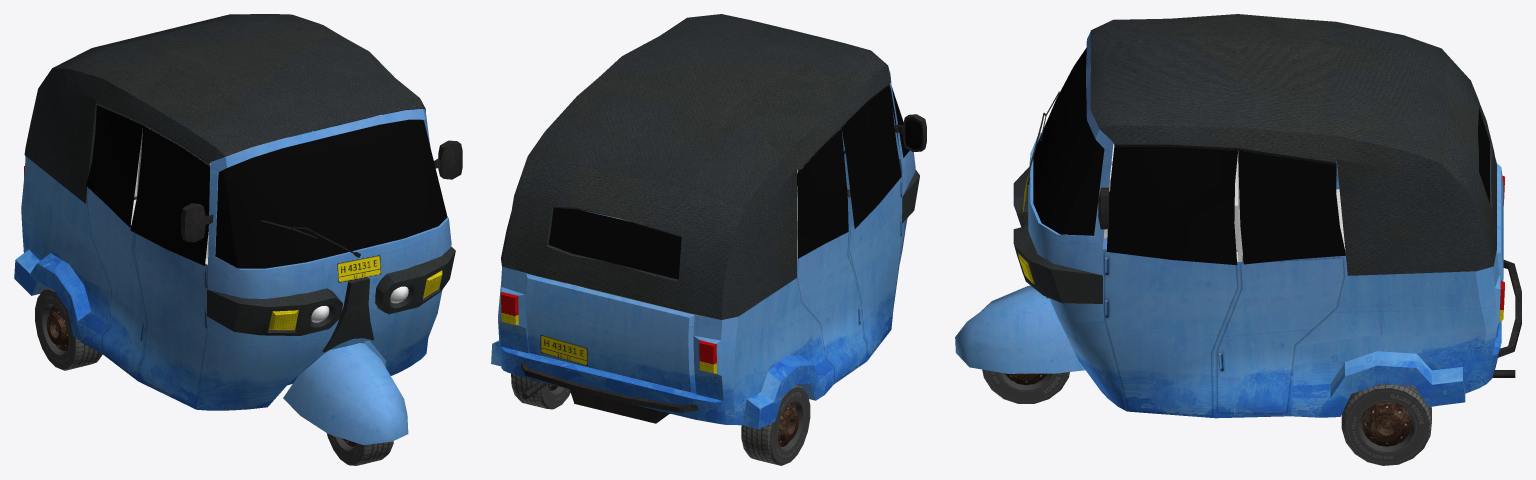
File: Bajaj.FBX
The picture shows the model from 3 angles, left to right: view 1: azimuth 30°, elevation 25°; view 2: azimuth 150°, elevation 25°; view 3: azimuth 270°, elevation 25°; orthographic projection. The views are drawn at different scales.
Parts seen in each view (by area): view 1: Bleki002, BodyBajaj, TempatLampuDepan, Ban003, Spion, Ban002, PlatNomor2, LampuDepan; view 2: Bleki002, BodyBajaj, Ban003, Besibesian, Ban001, LampuBelakang, PlatNomor1, TempatLampuDepan, Box006, Spion; view 3: Bleki002, BodyBajaj, Ban001, TempatLampuDepan, Ban002, Besibesian.
Boxes of the visible parts, left/top/right/bottom form: Bleki002: left=24, top=14, right=447, bottom=444; BodyBajaj: left=14, top=109, right=451, bottom=410; TempatLampuDepan: left=207, top=246, right=455, bottom=352; Ban003: left=35, top=287, right=102, bottom=370; Spion: left=181, top=140, right=462, bottom=242; Ban002: left=327, top=433, right=393, bottom=465; PlatNomor2: left=337, top=255, right=381, bottom=282; LampuDepan: left=311, top=286, right=408, bottom=322; Bleki002: left=501, top=14, right=909, bottom=319; BodyBajaj: left=491, top=68, right=915, bottom=429; Ban003: left=741, top=385, right=810, bottom=465; Besibesian: left=521, top=340, right=699, bottom=423; Ban001: left=511, top=373, right=570, bottom=409; LampuBelakang: left=501, top=292, right=717, bottom=373; PlatNomor1: left=540, top=335, right=587, bottom=365; TempatLampuDepan: left=814, top=150, right=919, bottom=223; Box006: left=905, top=119, right=922, bottom=149; Spion: left=895, top=114, right=926, bottom=152; Bleki002: left=955, top=14, right=1496, bottom=373; BodyBajaj: left=1028, top=32, right=1503, bottom=418; Ban001: left=1341, top=384, right=1431, bottom=465; TempatLampuDepan: left=1013, top=167, right=1102, bottom=303; Ban002: left=982, top=369, right=1069, bottom=403; Besibesian: left=1242, top=256, right=1521, bottom=402.
Bounding box in the file's own units: 58.85 × 64.5 × 98.01.
